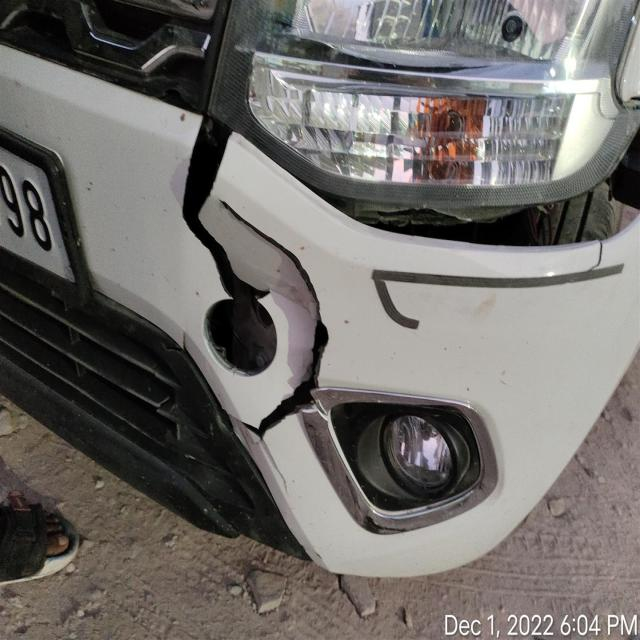damage: (179, 117, 333, 449), (585, 239, 606, 272)
